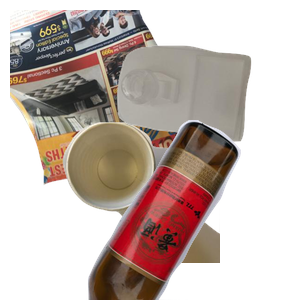glass: (85, 120, 300, 300)
paper: (10, 10, 230, 188)
plastic: (115, 43, 300, 177)
trash: (60, 120, 300, 300)
